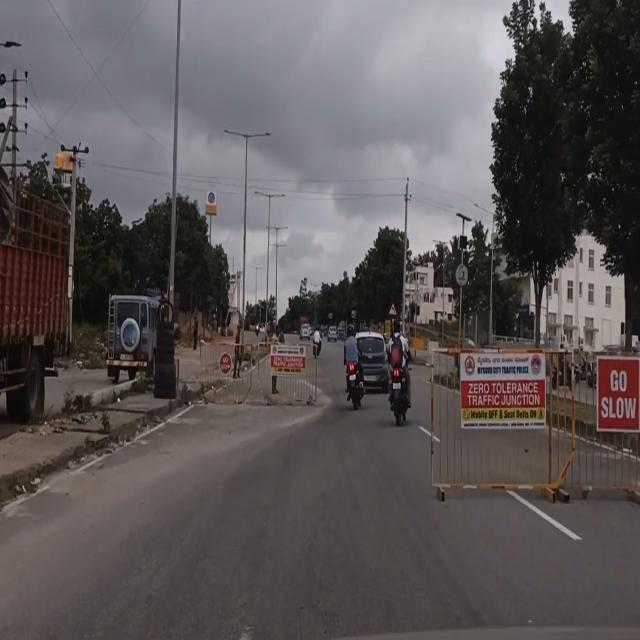bien_cam: (388, 300, 398, 317)
